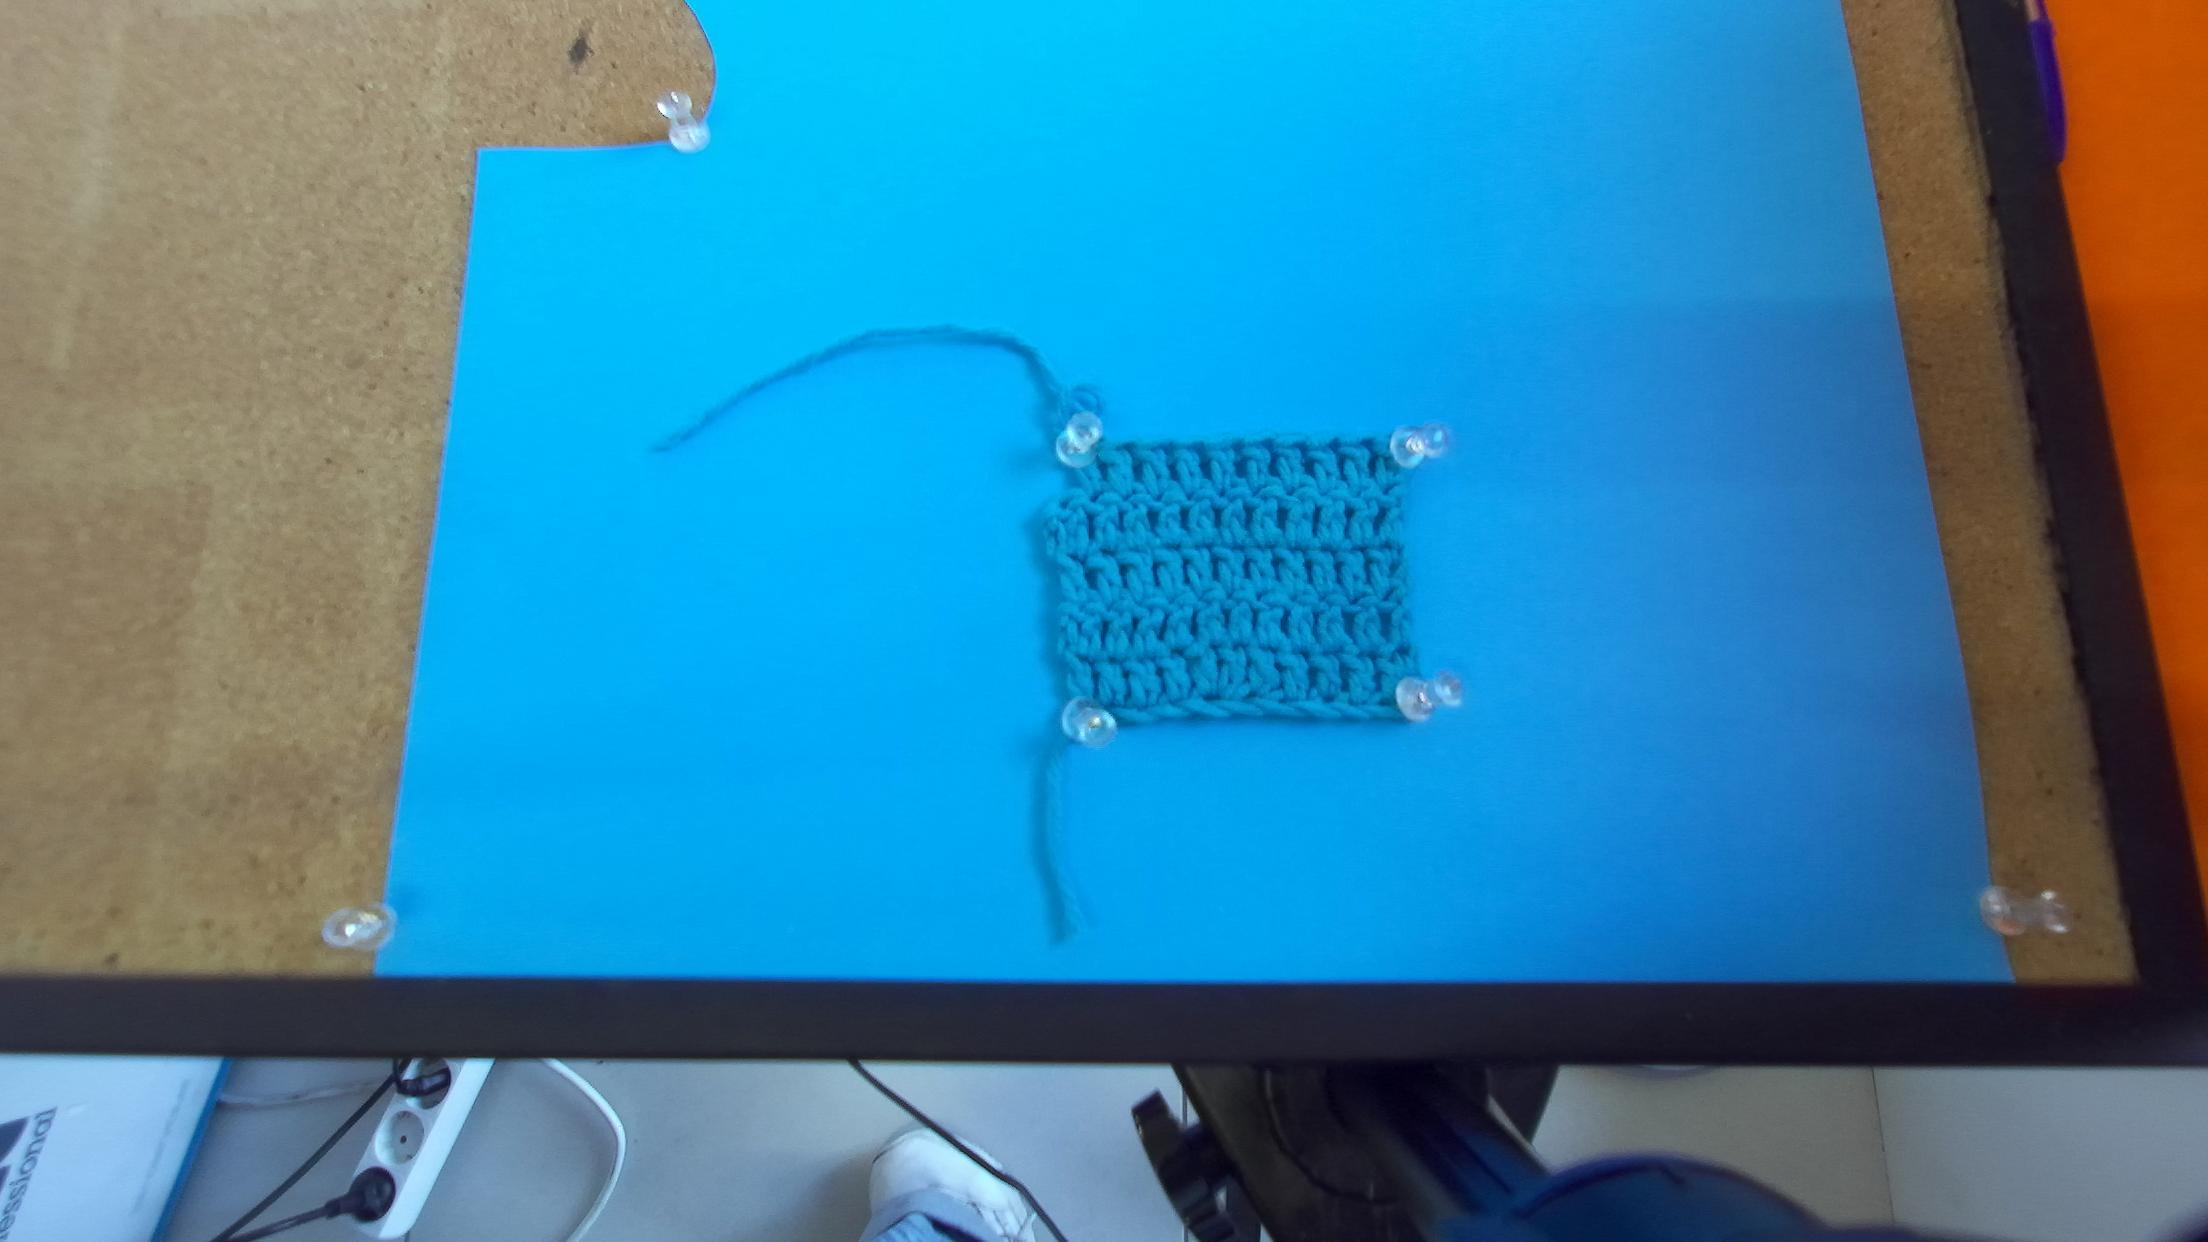hole: (1114, 441, 1135, 454), (1154, 442, 1174, 454), (1186, 442, 1206, 454), (1226, 440, 1244, 452), (1257, 437, 1275, 449), (1358, 437, 1373, 451), (1291, 442, 1310, 452), (1326, 438, 1341, 450)
swatch: (1031, 422, 1460, 741)
